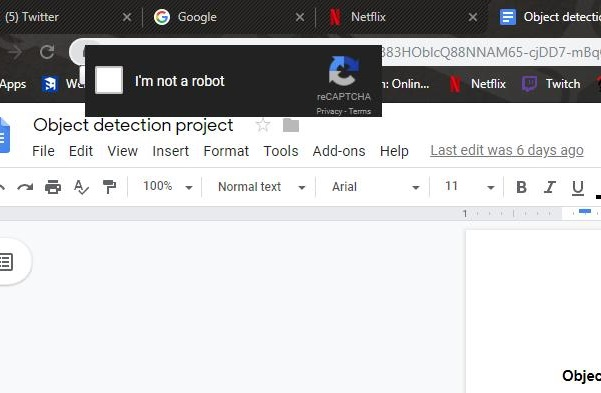captcha: (95, 65, 229, 93)
